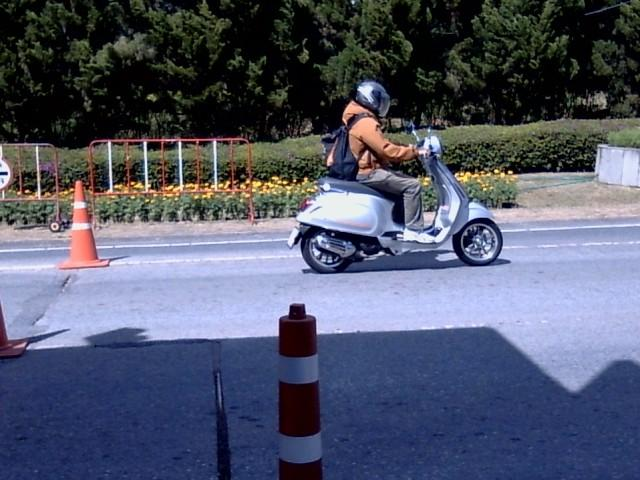helmet: (354, 76, 390, 115)
motor: (288, 123, 502, 272)
person: (342, 80, 428, 241)
